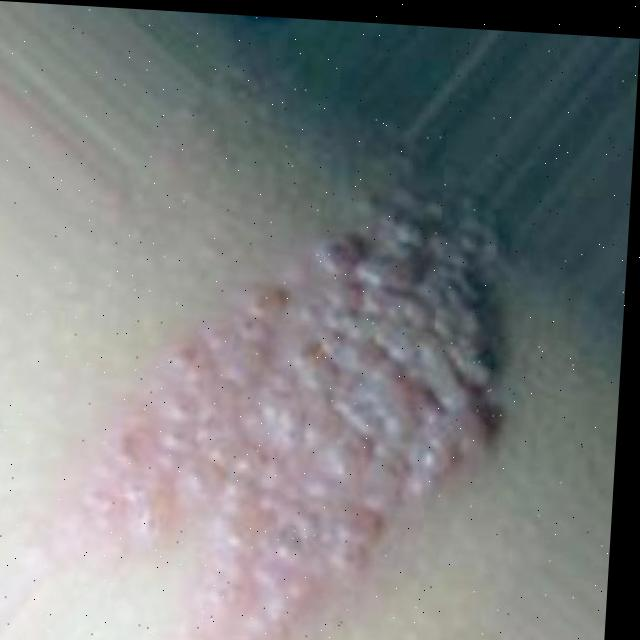Shingles: (79, 179, 514, 640)
